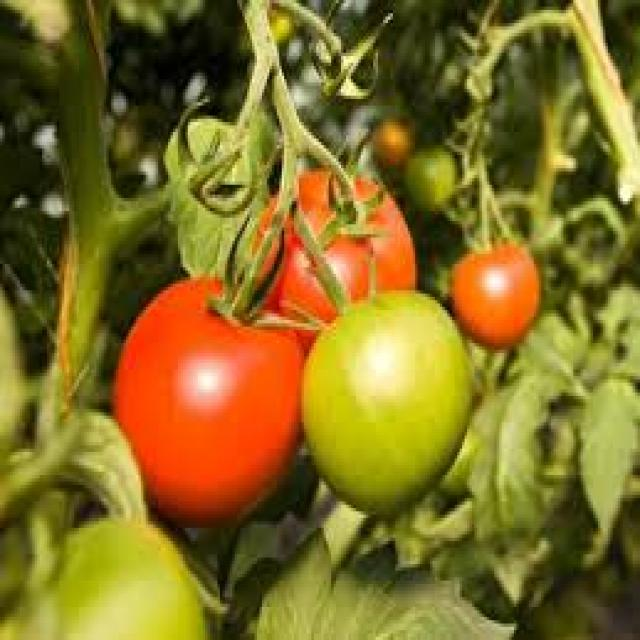organic waste: (111, 208, 299, 524), (296, 274, 469, 511), (0, 498, 208, 637), (245, 162, 418, 323), (450, 235, 536, 346), (403, 139, 457, 211), (368, 112, 418, 168), (242, 0, 294, 36)
